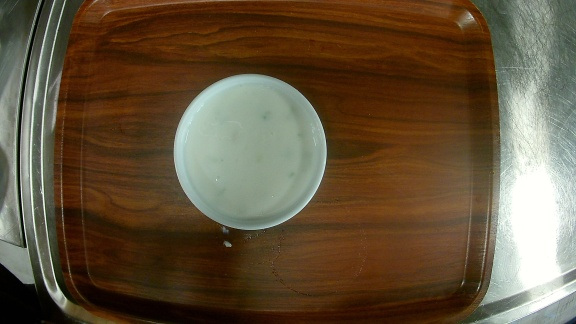cacik: (173, 74, 327, 231)
